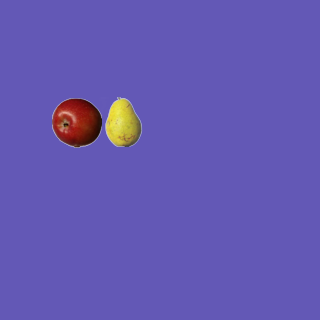Apple Braeburn: (51, 97, 101, 147)
Pear Monster: (98, 96, 148, 146)
